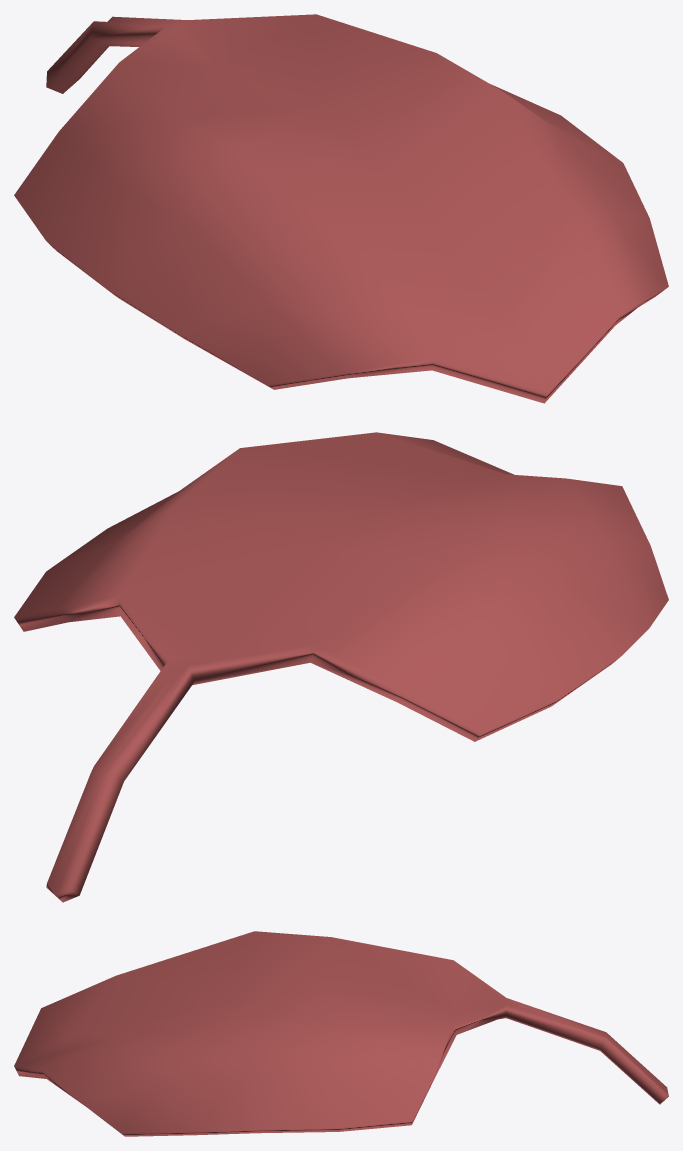
The model's file is BigLeaf02_lp.fbx.
3 views of the same model, one above another, from view 1: azimuth 30°, elevation 25°; view 2: azimuth 150°, elevation 25°; view 3: azimuth 270°, elevation 25° (orthographic). The views are drawn at different scales.
Visible parts, largest first — view 1: pPlane1; view 2: pPlane1; view 3: pPlane1.
Boxes of the visible parts, x1,y1,x2,y2 form: pPlane1: [14, 14, 668, 403]; pPlane1: [14, 432, 668, 902]; pPlane1: [14, 931, 668, 1136].
Size of the model in its own units: 1.35 by 0.4954 by 2.24.
